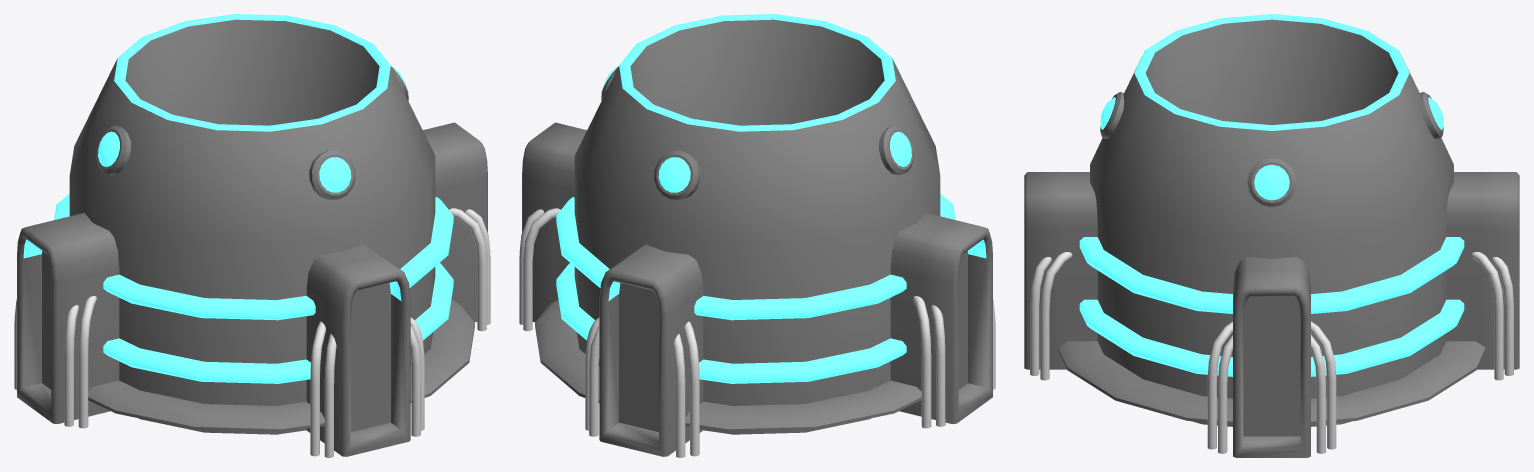
File: Gravity_Tower.fbx
3 renders of one model, left to right at view 1: azimuth 30°, elevation 25°; view 2: azimuth 150°, elevation 25°; view 3: azimuth 270°, elevation 25°, orthographic.
Parts seen in each view (by area): view 1: Gravity Tower Body, Doorway X, Doorway Y, Gravity Tower Light Ring, Gravity Tower Step, Pipe X, Pipe Y, Lamp Y, Lamp X; view 2: Gravity Tower Body, Doorway X, Doorway Y, Gravity Tower Light Ring, Gravity Tower Step, Pipe X, Pipe Y, Lamp Y, Lamp X; view 3: Gravity Tower Body, Doorway Y, Doorway X, Gravity Tower Light Ring, Gravity Tower Step, Pipe Y, Pipe X, Lamp X, Lamp Y.
Part boxes in pixels (x1,y1,x2,y2): Gravity Tower Body: (69, 14, 435, 434); Doorway X: (17, 122, 487, 423); Doorway Y: (306, 244, 410, 456); Gravity Tower Light Ring: (54, 193, 453, 383); Gravity Tower Step: (88, 299, 474, 432); Pipe X: (14, 208, 490, 428); Pipe Y: (310, 317, 424, 457); Lamp Y: (309, 150, 355, 199); Lamp X: (96, 67, 408, 175); Gravity Tower Body: (574, 14, 940, 434); Doorway X: (522, 122, 992, 423); Doorway Y: (599, 244, 703, 456); Gravity Tower Light Ring: (556, 193, 955, 383); Gravity Tower Step: (535, 299, 921, 432); Pipe X: (519, 208, 995, 428); Pipe Y: (585, 317, 699, 457); Lamp Y: (654, 150, 700, 199); Lamp X: (601, 67, 913, 175); Gravity Tower Body: (1090, 14, 1453, 426); Doorway Y: (1024, 172, 1519, 369); Doorway X: (1233, 257, 1310, 457); Gravity Tower Light Ring: (1079, 237, 1464, 376); Gravity Tower Step: (1058, 341, 1485, 424); Pipe Y: (1030, 252, 1513, 380); Pipe X: (1207, 321, 1336, 453); Lamp X: (1247, 158, 1296, 206); Lamp Y: (1100, 92, 1443, 138).
Bounding box in the file's own units: 3.93 × 2.48 × 3.93.
